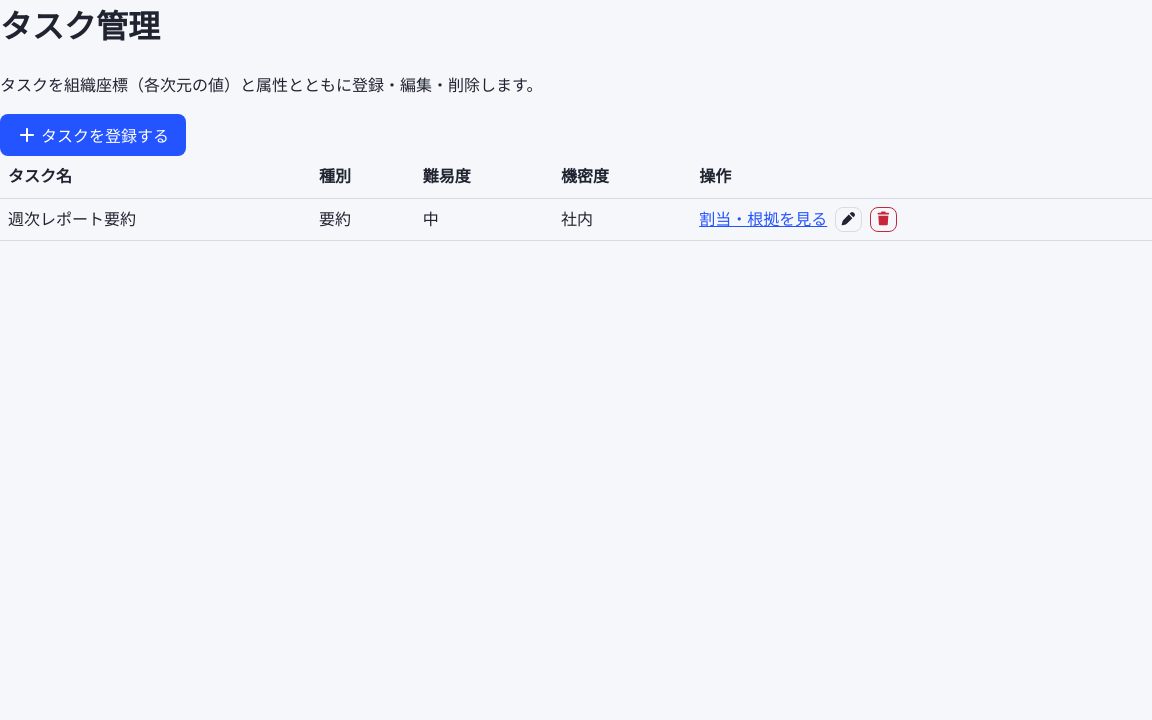
Scenario: TasksPage › 個人名・連絡先を入力しないよう注意書きを表示する
Expected: the text "週次レポート要約" is shown, [0,198,311,241]
Click the button "タスクを登録する" at (93, 135), box [0,114,186,156]
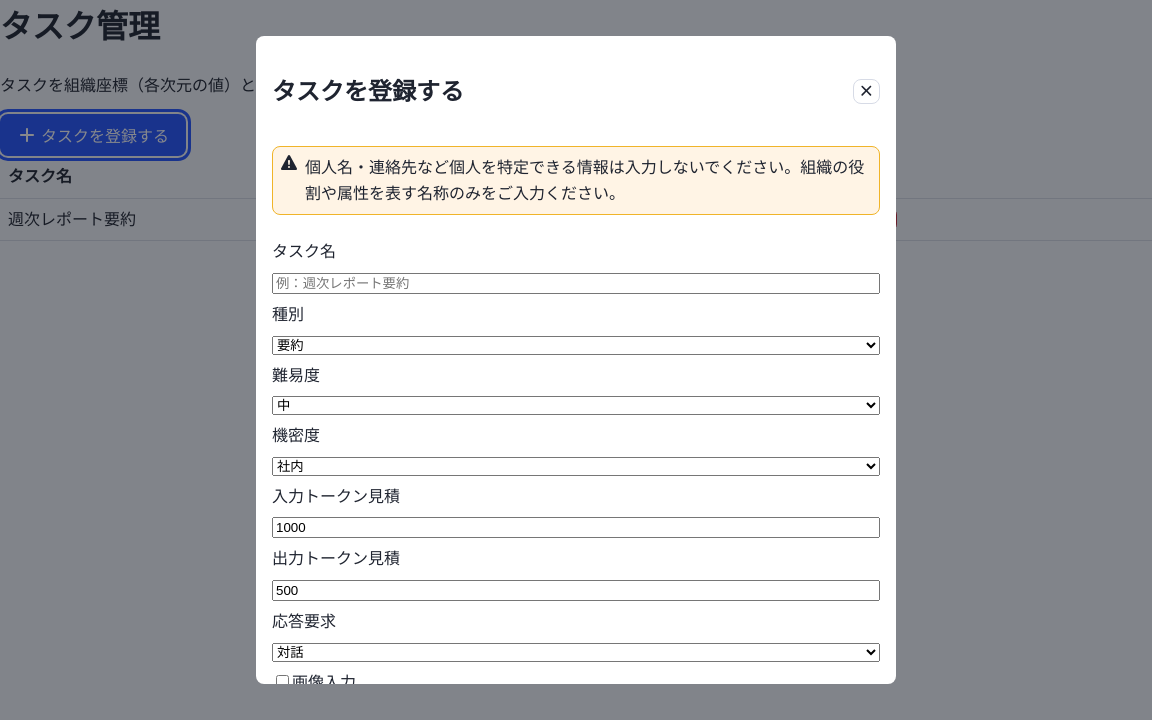
Now the element showing "個人名・連絡先など個人を特定できる情報は入力しないでください。組織の役割や属性を表す名称のみをご入力ください。" is shown, box [272,146,880,215]
